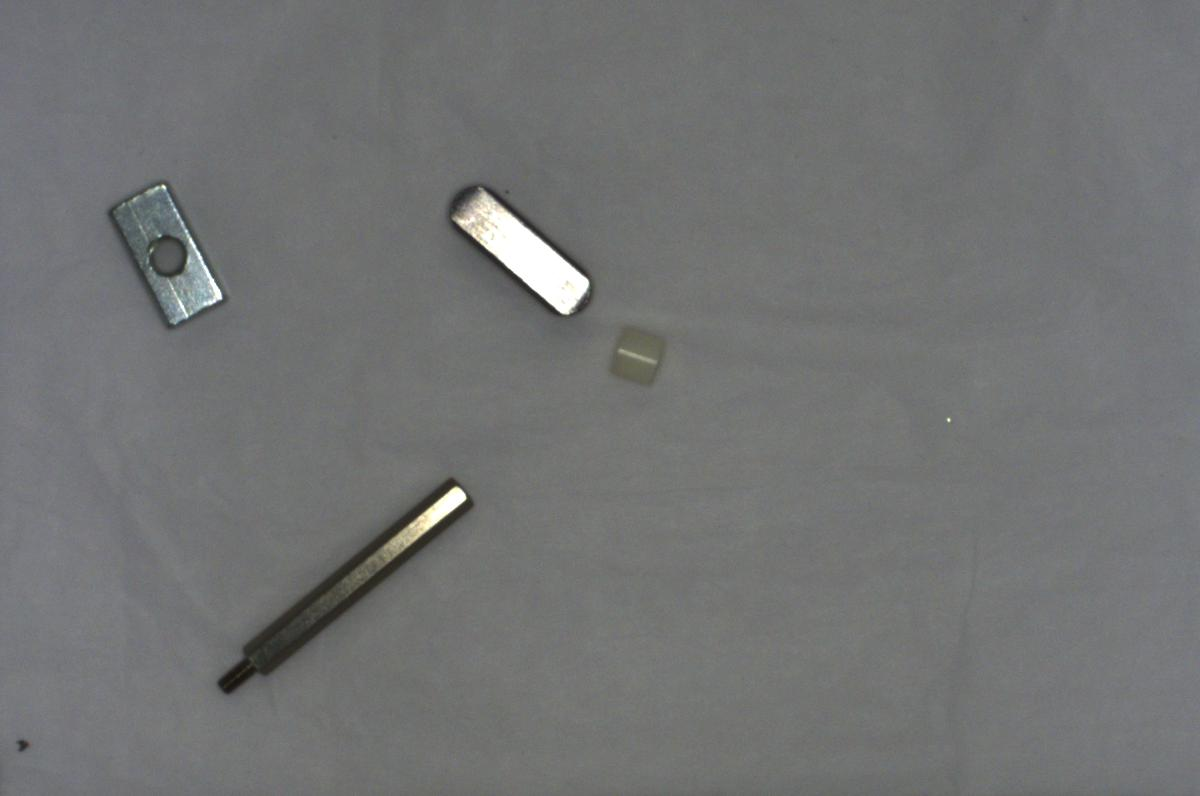Hexagonal steel column: (221, 469, 471, 699)
Keybar: (448, 176, 599, 320)
Plastic cushion pillar: (606, 319, 675, 388)
Rectangular nut: (101, 176, 232, 330)
